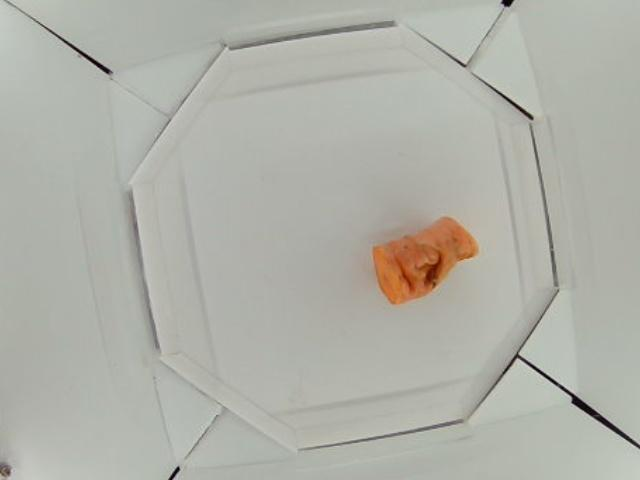Carrot: (373, 216, 477, 303)
